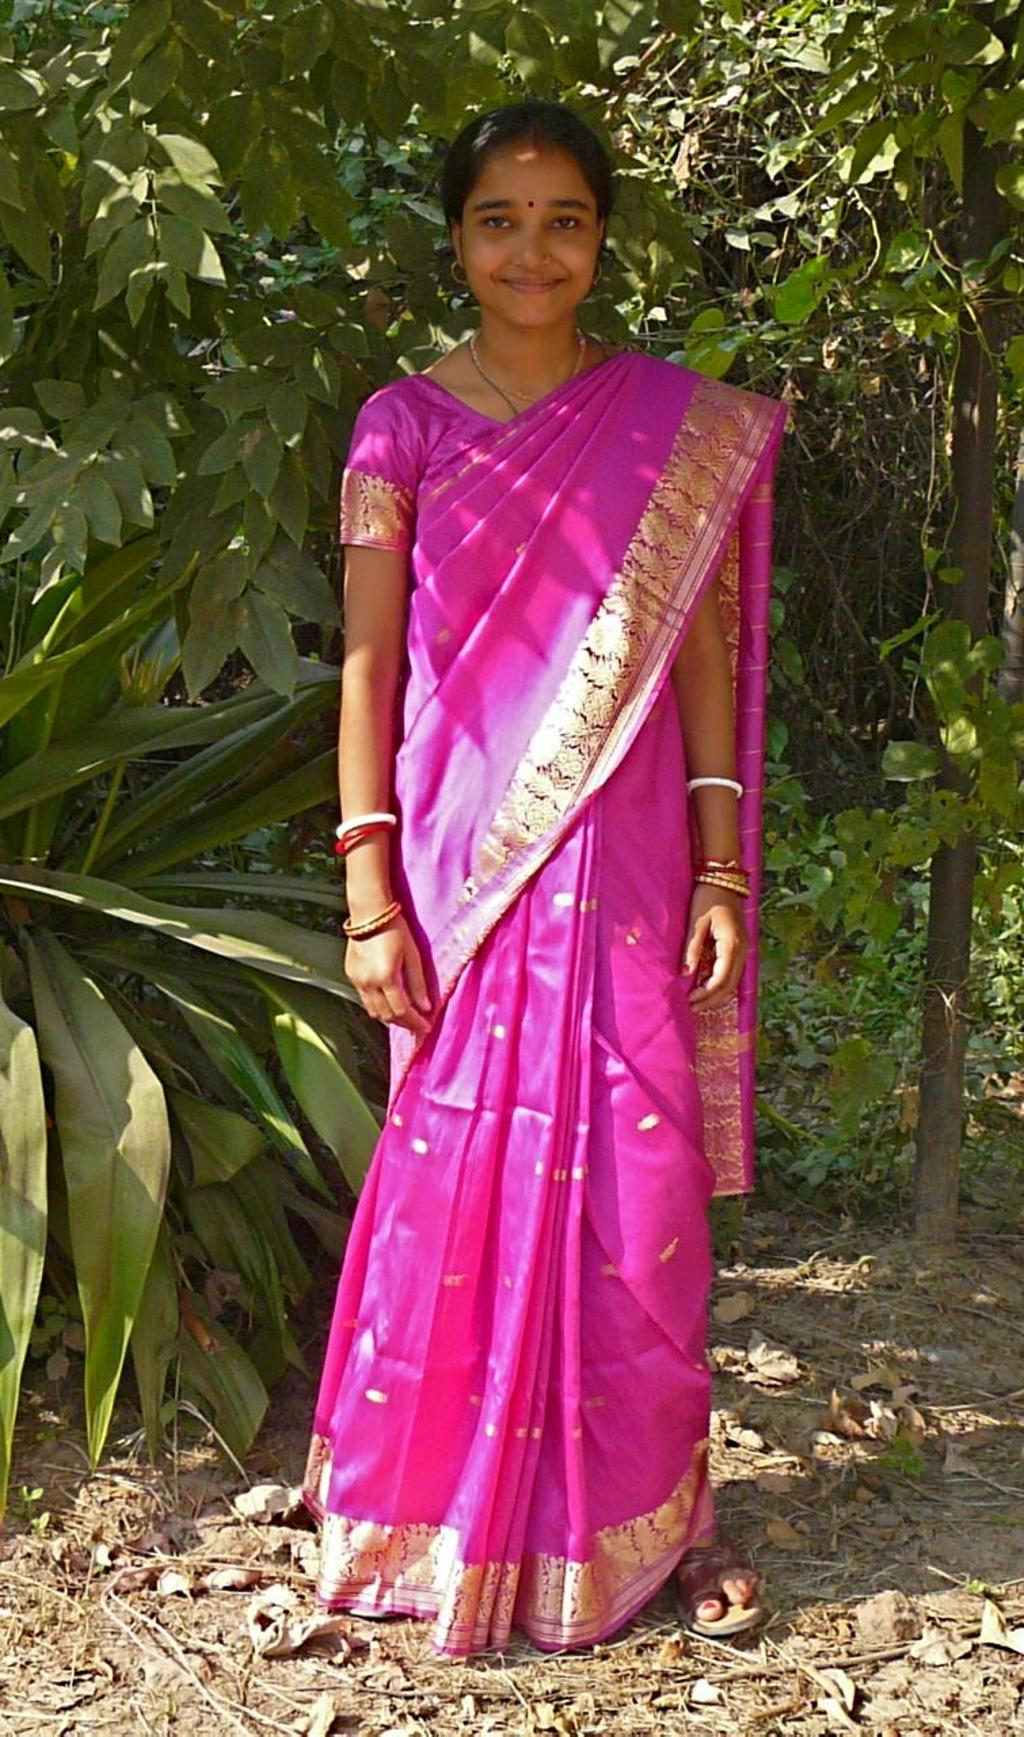face: (461, 139, 600, 325)
